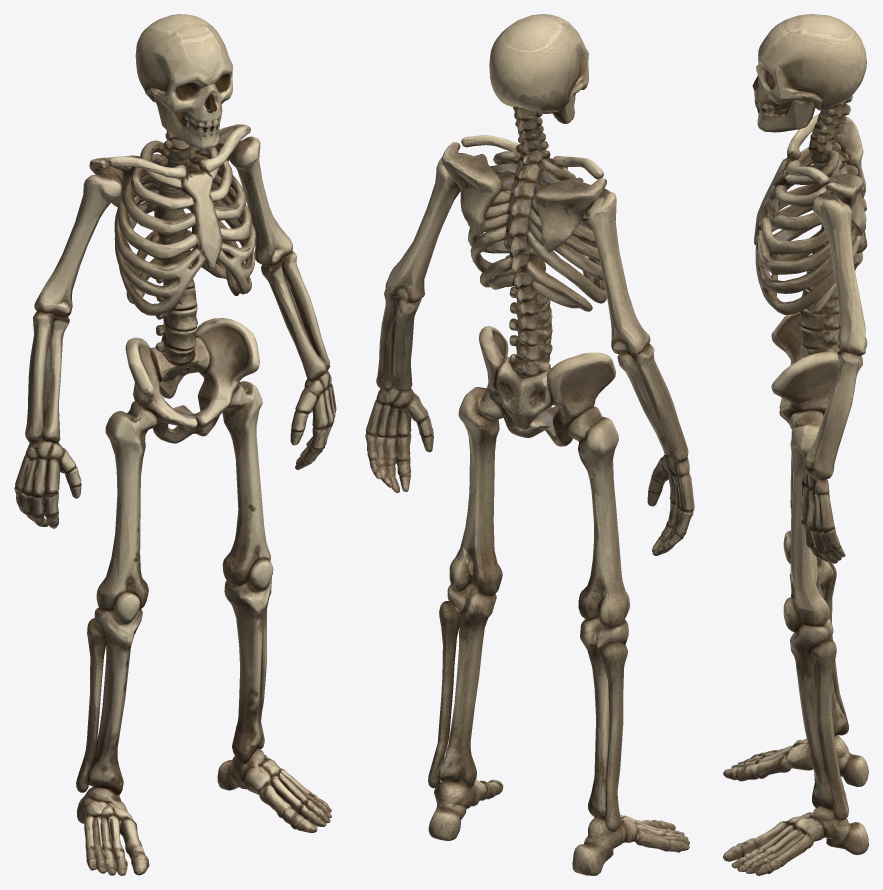
File: bonewalker.glb
3 views of the same model, side by side, from view 1: azimuth 30°, elevation 25°; view 2: azimuth 150°, elevation 25°; view 3: azimuth 270°, elevation 25° (orthographic). The views are drawn at different scales.
Parts seen in each view (by area): view 1: Mesh_0; view 2: Mesh_0; view 3: Mesh_0.
Part boxes in pixels (bbox=[...]): Mesh_0: bbox=[14, 14, 336, 875]; Mesh_0: bbox=[365, 14, 694, 875]; Mesh_0: bbox=[723, 14, 868, 875].
Size of the model in its own units: 0.7918 by 1.9 by 0.3141.
1 material, 1 textured.
